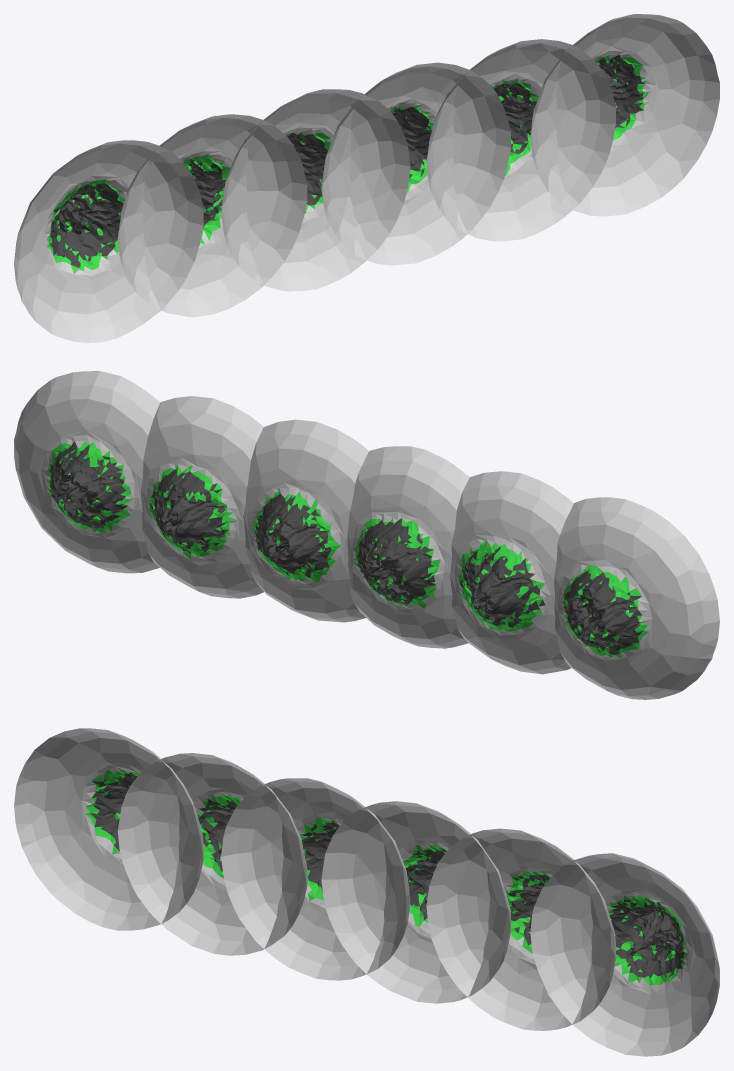
The model's file is Islands 3 (LOD 2).fbx.
3 views of the same model, one above another, from view 1: azimuth 30°, elevation 25°; view 2: azimuth 150°, elevation 25°; view 3: azimuth 330°, elevation 25° (orthographic).
Parts seen in each view (by area): view 1: Volcano (LOD 2) 2, Volcano (LOD 2) 6, Volcano (LOD 2) 1, Volcano (LOD 2) 3, Volcano (LOD 2) 5, Volcano (LOD 2) 4; view 2: Volcano (LOD 2) 2, Volcano (LOD 2) 6, Volcano (LOD 2) 3, Volcano (LOD 2) 1, Volcano (LOD 2) 5, Volcano (LOD 2) 4; view 3: Volcano (LOD 2) 6, Volcano (LOD 2) 2, Volcano (LOD 2) 1, Volcano (LOD 2) 3, Volcano (LOD 2) 5, Volcano (LOD 2) 4.
Part boxes in pixels (box(x1,y1,x2,y2)): Volcano (LOD 2) 2: box(14, 140, 203, 342); Volcano (LOD 2) 6: box(530, 14, 719, 216); Volcano (LOD 2) 1: box(426, 39, 615, 241); Volcano (LOD 2) 3: box(117, 114, 307, 317); Volcano (LOD 2) 5: box(321, 62, 510, 265); Volcano (LOD 2) 4: box(221, 89, 410, 291); Volcano (LOD 2) 2: box(554, 497, 719, 699); Volcano (LOD 2) 6: box(14, 371, 160, 573); Volcano (LOD 2) 3: box(450, 471, 573, 674); Volcano (LOD 2) 1: box(141, 396, 263, 598); Volcano (LOD 2) 5: box(243, 419, 368, 622); Volcano (LOD 2) 4: box(347, 446, 469, 648); Volcano (LOD 2) 6: box(530, 853, 719, 1056); Volcano (LOD 2) 2: box(14, 728, 203, 930); Volcano (LOD 2) 1: box(426, 828, 615, 1030); Volcano (LOD 2) 3: box(117, 753, 307, 955); Volcano (LOD 2) 5: box(321, 801, 510, 1003); Volcano (LOD 2) 4: box(221, 778, 410, 980).
Bounding box in the file's own units: 1369 × 372 × 140.
